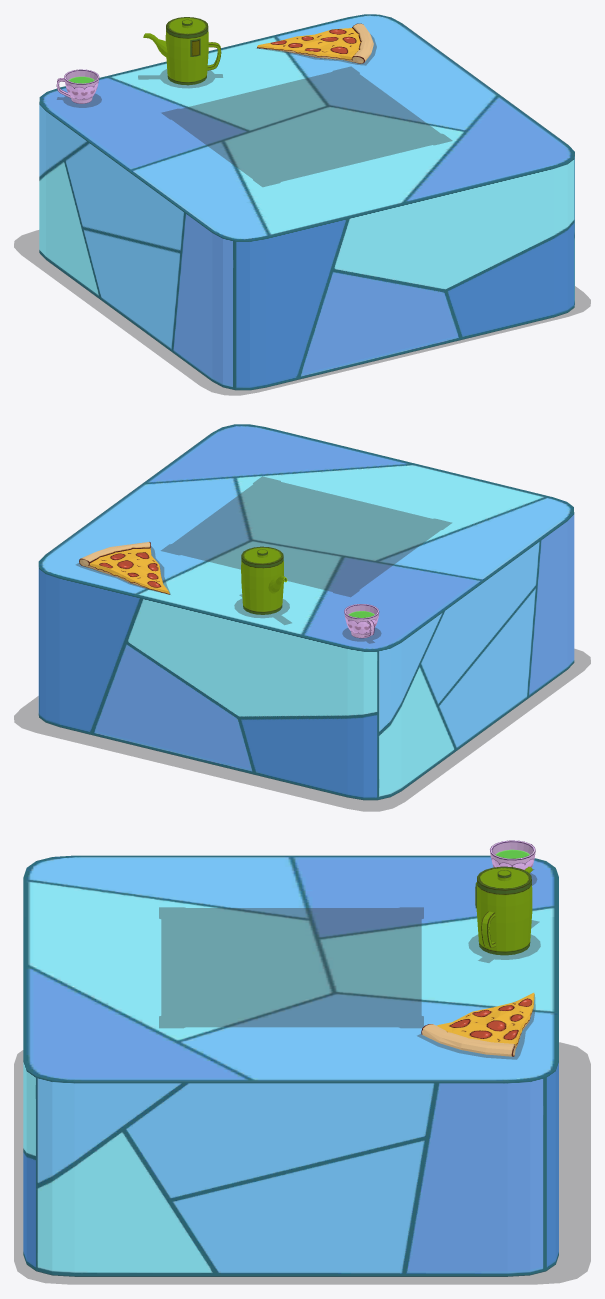
Rendered from IceKingdom_Table.glb.
3 views of the same model, one above another, from view 1: azimuth 30°, elevation 25°; view 2: azimuth 150°, elevation 25°; view 3: azimuth 270°, elevation 25° (orthographic). The views are drawn at different scales.
Parts seen in each view (by area): view 1: IceKingdom_Table, IceKingdom_Table_Shadow, IceKingdom_Objects, IceKingdom_Shadow; view 2: IceKingdom_Table, IceKingdom_Table_Shadow, IceKingdom_Shadow, IceKingdom_Objects; view 3: IceKingdom_Table, IceKingdom_Table_Shadow, IceKingdom_Shadow, IceKingdom_Objects.
Part boxes in pixels (<box>): IceKingdom_Table: <box>39,14,574,390</box>; IceKingdom_Table_Shadow: <box>162,66,452,186</box>; IceKingdom_Objects: <box>56,17,373,103</box>; IceKingdom_Shadow: <box>14,34,590,395</box>; IceKingdom_Table: <box>38,424,574,800</box>; IceKingdom_Table_Shadow: <box>161,476,451,596</box>; IceKingdom_Shadow: <box>14,546,590,811</box>; IceKingdom_Objects: <box>79,542,379,638</box>; IceKingdom_Table: <box>23,855,558,1276</box>; IceKingdom_Table_Shadow: <box>159,907,423,1027</box>; IceKingdom_Shadow: <box>14,869,590,1284</box>; IceKingdom_Objects: <box>421,840,535,1056</box>.
Bounding box in the file's own units: 4.96 × 2.53 × 4.96.
Materials: 3 (3 with a texture image).
